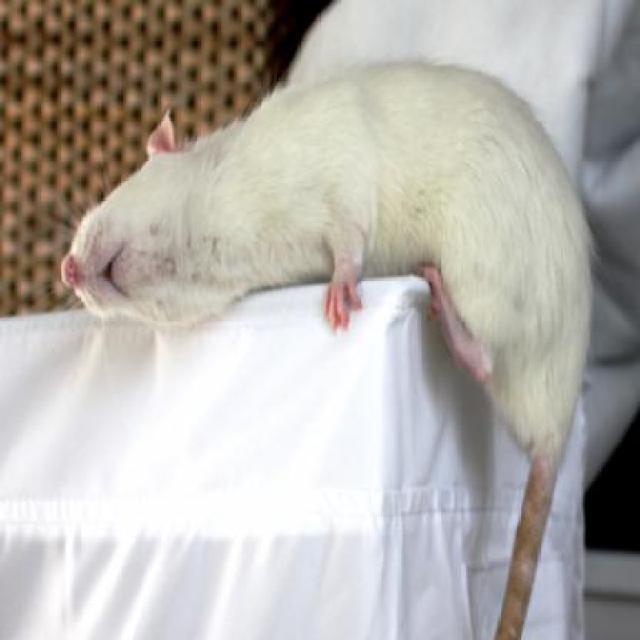Mouse: (52, 56, 605, 496)
